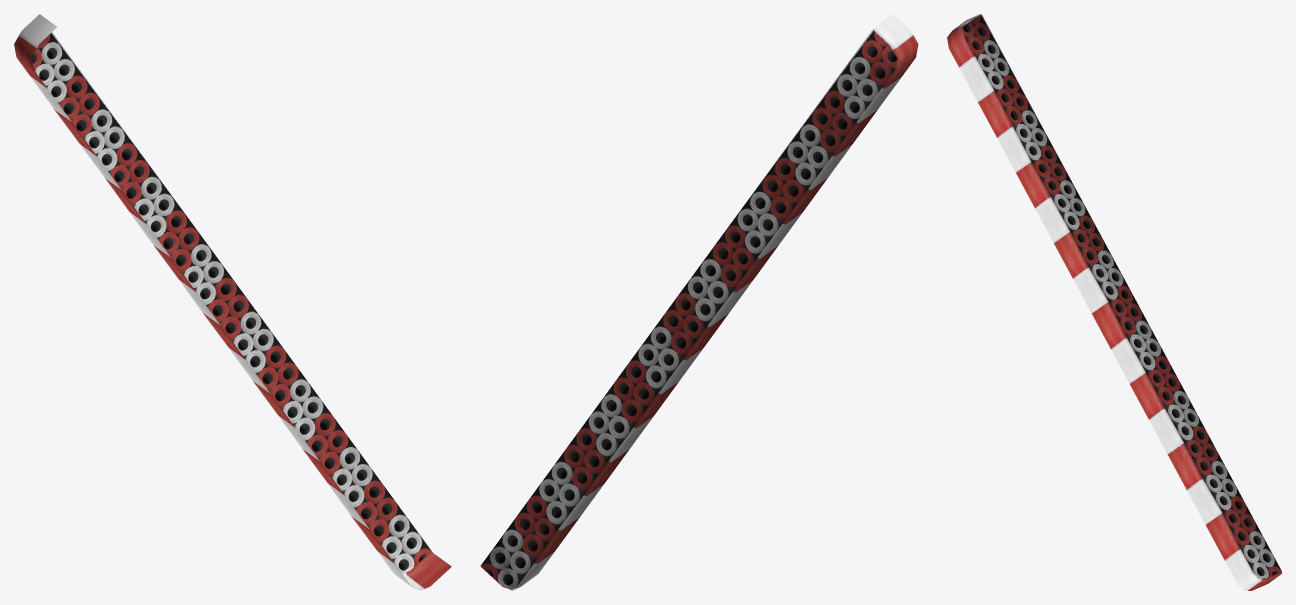
File: _1WALL_tires01_01.obj
3 renders of one model, left to right at view 1: azimuth 30°, elevation 25°; view 2: azimuth 150°, elevation 25°; view 3: azimuth 330°, elevation 25°, orthographic. The views are drawn at different scales.
Parts seen in each view (by area): view 1: _1WALL_tires01_01_Scene.373; view 2: _1WALL_tires01_01_Scene.373; view 3: _1WALL_tires01_01_Scene.373.
Boxes of the visible parts, x1=… form: _1WALL_tires01_01_Scene.373: x1=14, y1=14, x2=451, y2=590; _1WALL_tires01_01_Scene.373: x1=480, y1=14, x2=918, y2=590; _1WALL_tires01_01_Scene.373: x1=947, y1=14, x2=1281, y2=590.
Bounding box in the file's own units: 1417 × 2102 × 119.
